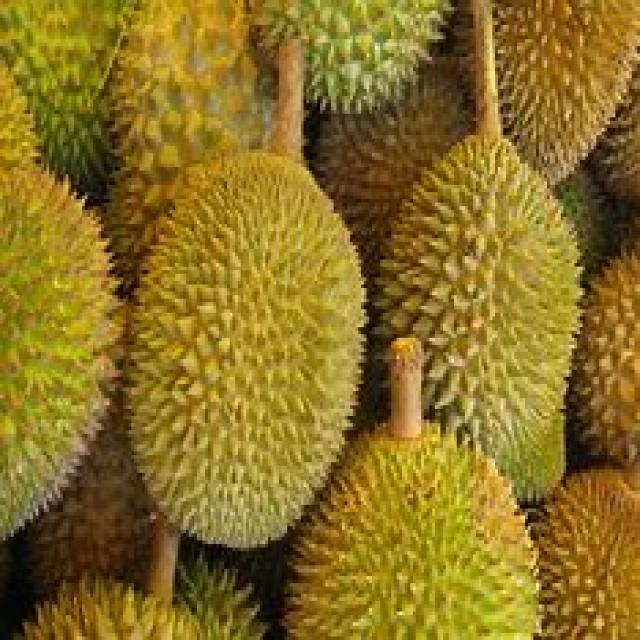mature: (131, 153, 364, 547)
